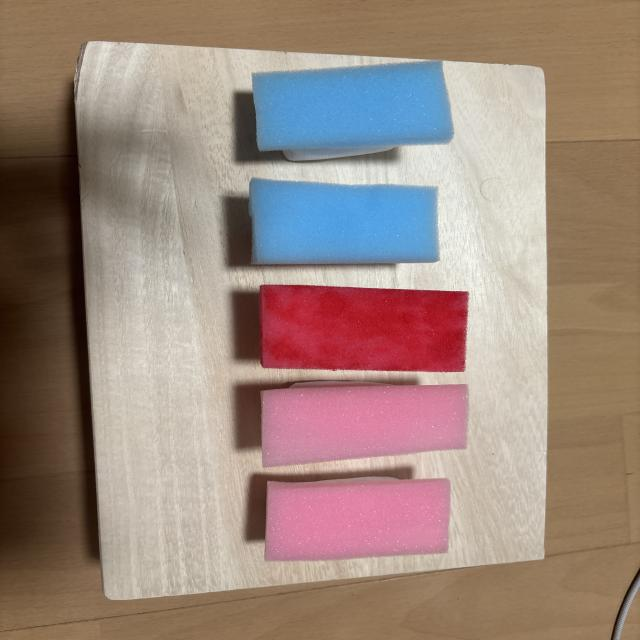ika: (253, 61, 454, 160), (250, 178, 439, 264)
maguro: (259, 285, 468, 372)
tai: (261, 383, 468, 467), (265, 478, 450, 561)
